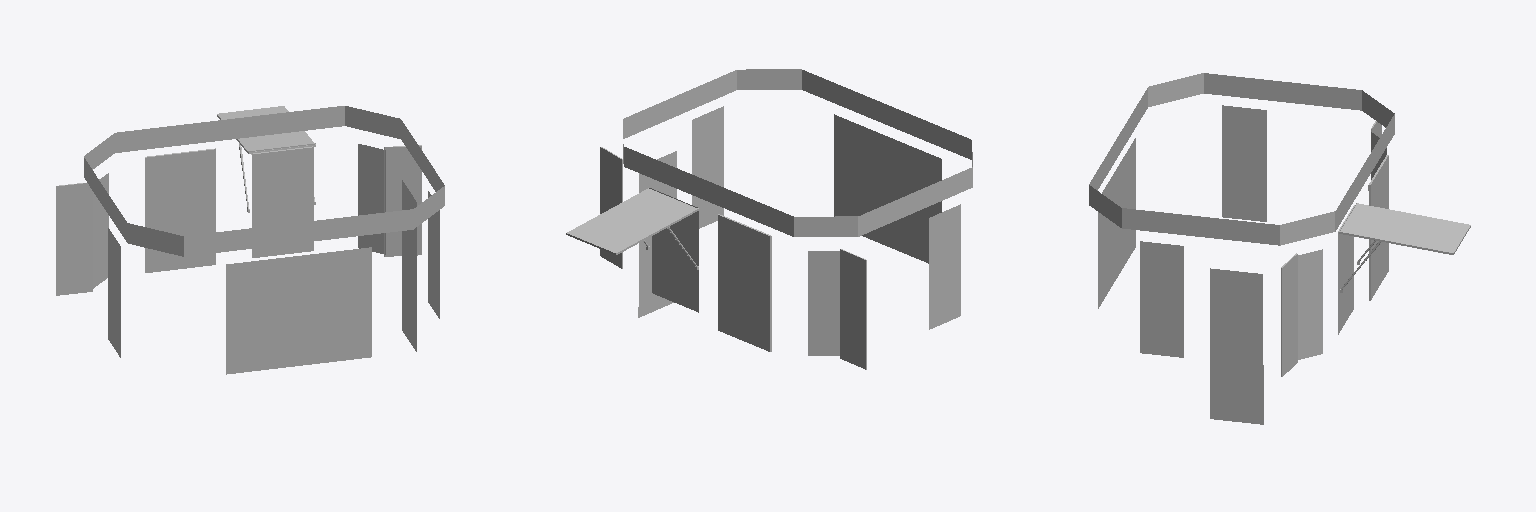
File: venice_19.obj
The picture shows the model from 3 angles: view 1: azimuth 30°, elevation 25°; view 2: azimuth 150°, elevation 25°; view 3: azimuth 270°, elevation 25°; orthographic projection.
Size of the model in its own units: 5.66 by 3.3 by 5.61.